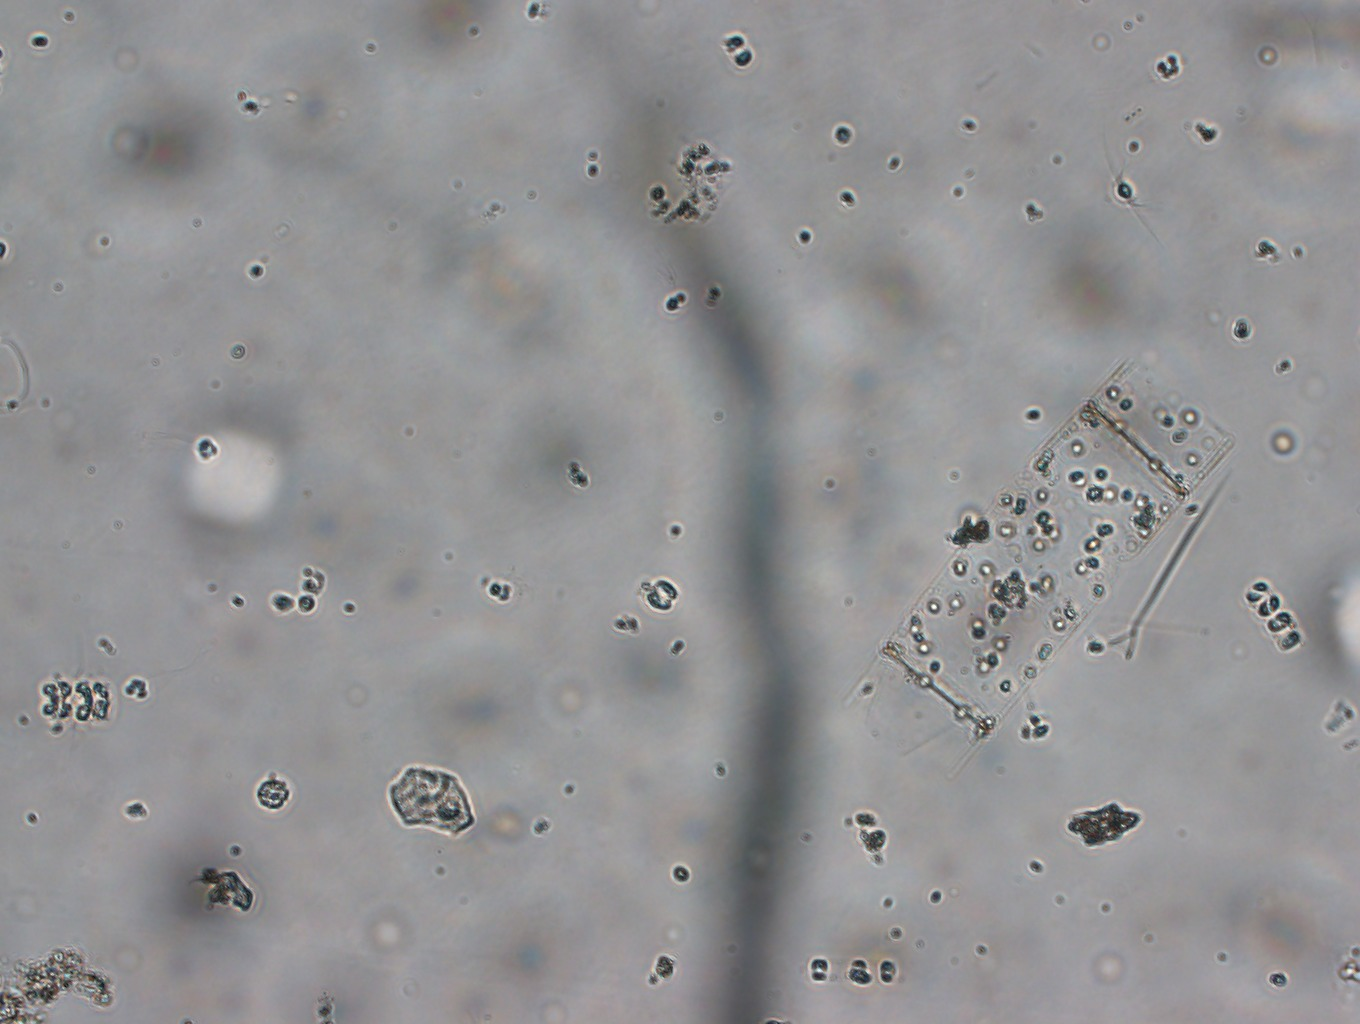guinardia flaccida: (858, 345, 1234, 780)
